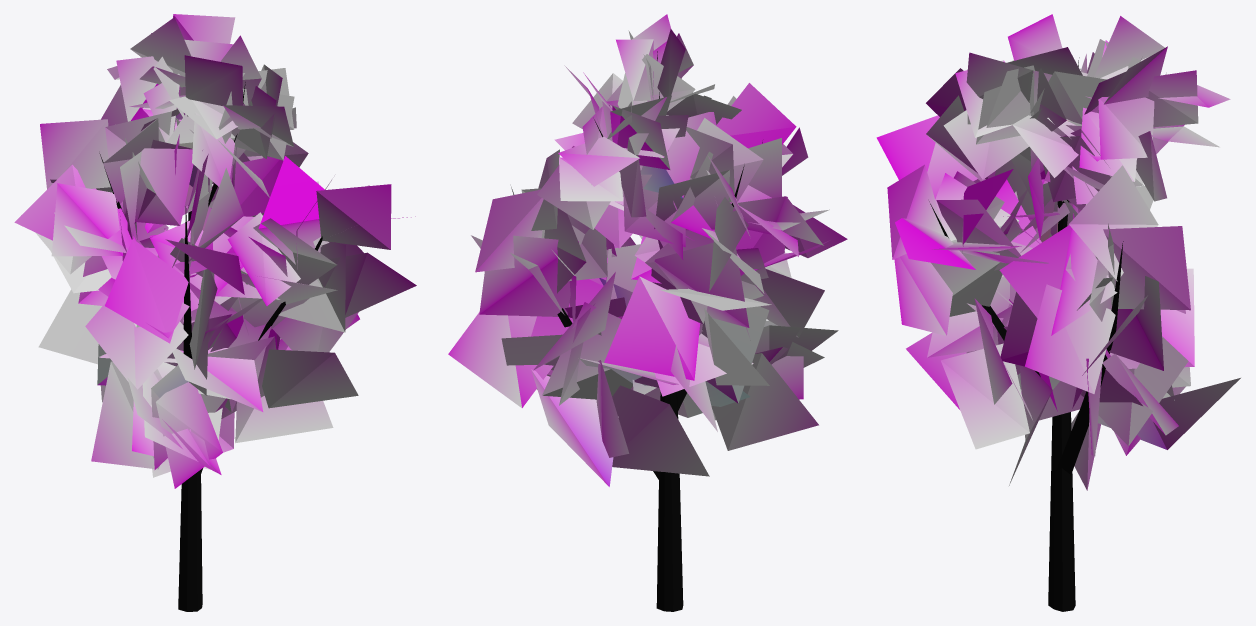
The model's file is birch_01_d.dae.
3 renders of one model, left to right at view 1: azimuth 30°, elevation 25°; view 2: azimuth 150°, elevation 25°; view 3: azimuth 270°, elevation 25°, orthographic. The views are drawn at different scales.
Parts seen in each view (by area): view 1: birchd80; view 2: birchd80; view 3: birchd80.
Boxes of the visible parts, x1,y1,x2,y2 form: birchd80: [14, 14, 416, 611]; birchd80: [448, 14, 847, 611]; birchd80: [876, 14, 1240, 611].
Size of what is drawn, in the model's own units: 11.82 by 10.58 by 19.05.
